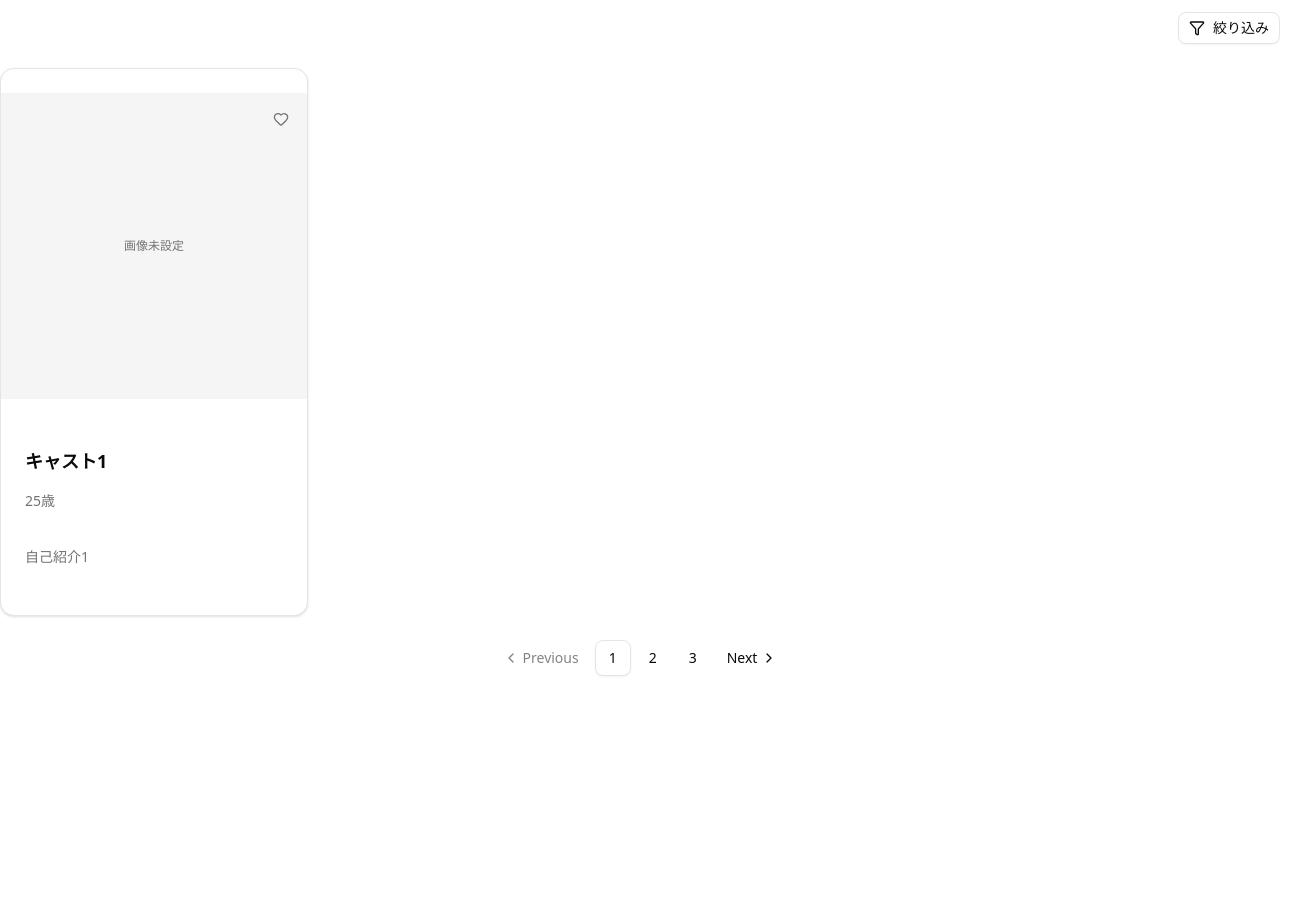
Scenario: CastListTemplate › ページネーション › ページ変更時に新しいデータを取得する
This screenshot has width=1292, height=912.
Expected: the text "キャスト1" is shown, top-left (25, 449), bottom-right (107, 473)
Click the link "2" at (653, 658), box top-left (649, 648), bottom-right (657, 667)
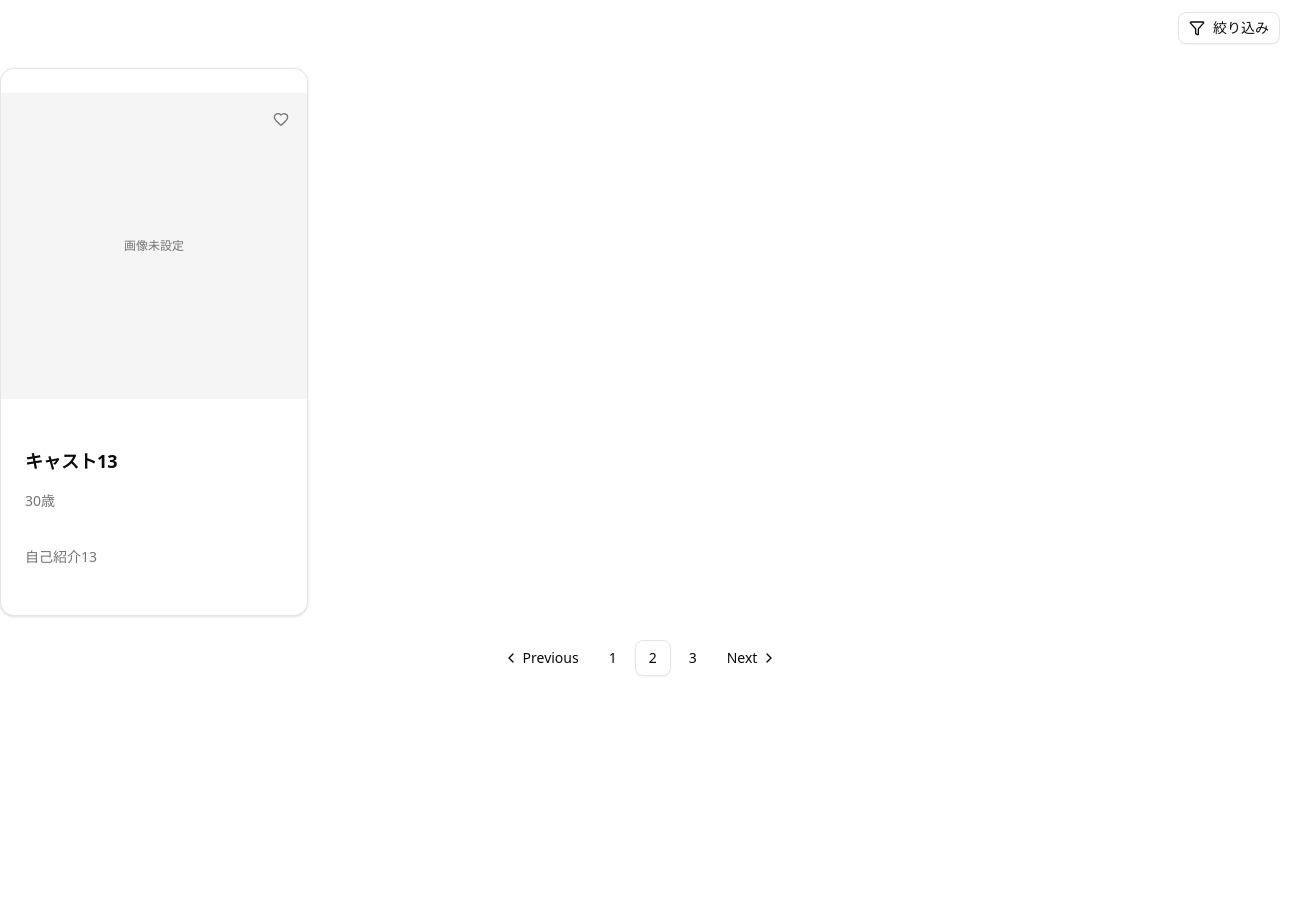
Expected: the text "キャスト13" is shown, top-left (25, 449), bottom-right (118, 473)
